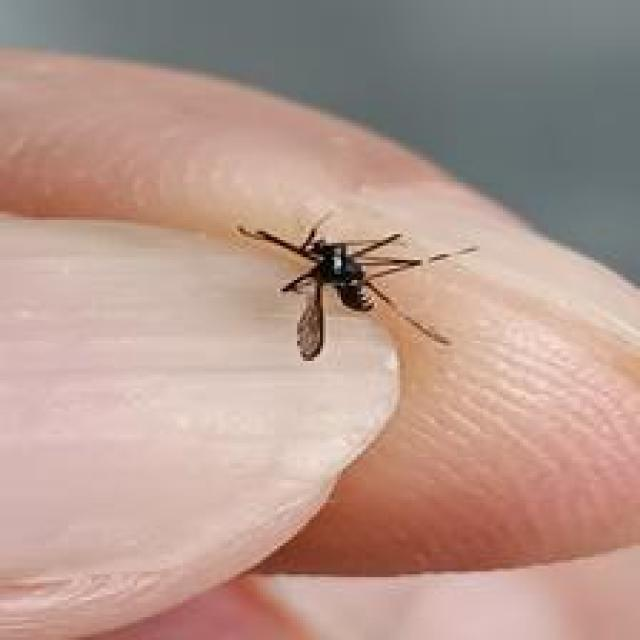Aedes albopictus: (234, 207, 477, 362)
